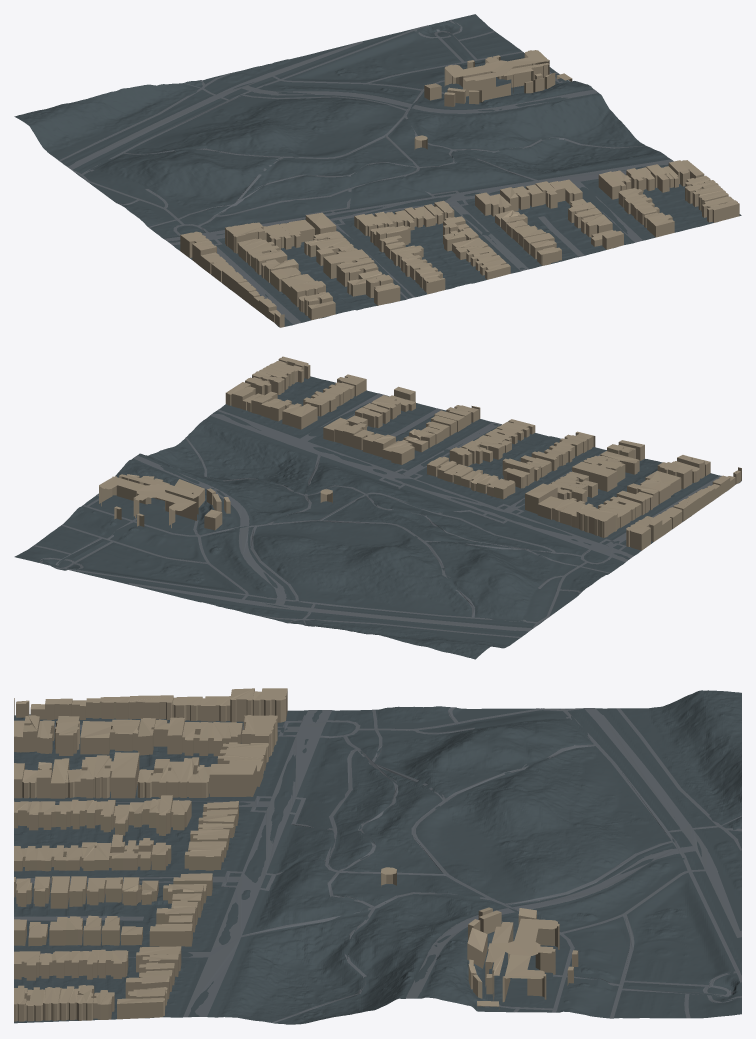
Rendered from epsg26910-1425-10887.lod0.glb.
3 views of the same model, one above another, from view 1: azimuth 30°, elevation 25°; view 2: azimuth 150°, elevation 25°; view 3: azimuth 270°, elevation 25° (orthographic). The views are drawn at different scales.
Visible parts, largest first — view 1: epsg26910-1425-10887-lod0; view 2: epsg26910-1425-10887-lod0; view 3: epsg26910-1425-10887-lod0.
Boxes of the visible parts, bbox=[...] form: epsg26910-1425-10887-lod0: bbox=[14, 14, 741, 327]; epsg26910-1425-10887-lod0: bbox=[14, 356, 741, 659]; epsg26910-1425-10887-lod0: bbox=[14, 688, 741, 1024].
Bounding box in the file's own units: 384 × 27.14 × 384.
